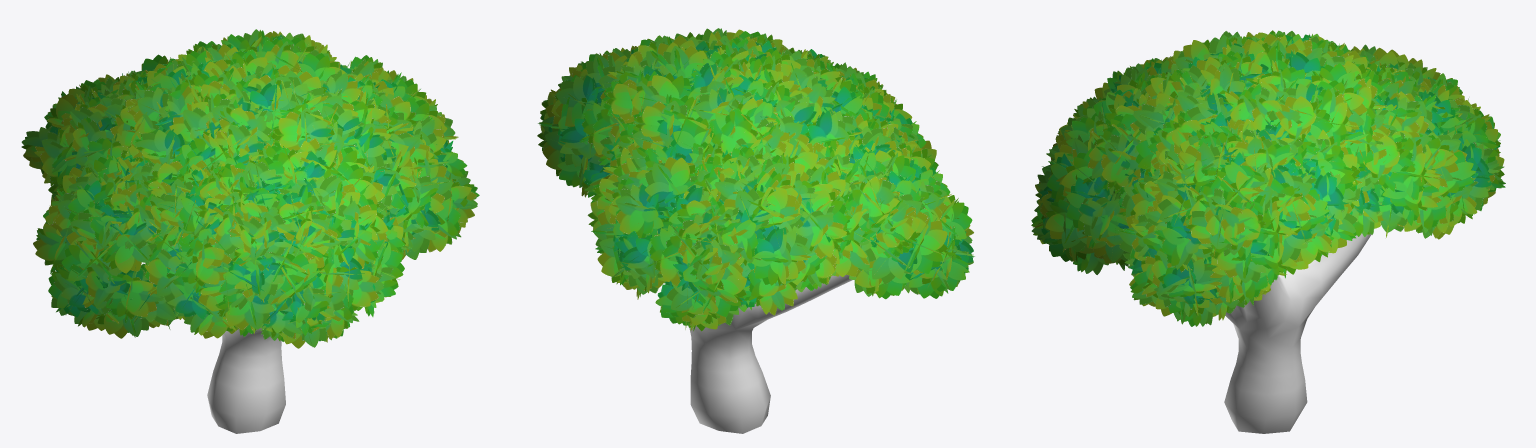
File: tree_it02.fbx
3 views of the same model, side by side, from view 1: azimuth 30°, elevation 25°; view 2: azimuth 150°, elevation 25°; view 3: azimuth 270°, elevation 25° (orthographic). The views are drawn at different scales.
Parts seen in each view (by area): view 1: leaves, Trunk; view 2: leaves, Trunk; view 3: leaves, Trunk.
Part boxes in pixels (<box>): leaves: <box>21,29,479,348</box>; Trunk: <box>207,328,285,433</box>; leaves: <box>537,28,974,331</box>; Trunk: <box>689,275,852,433</box>; leaves: <box>1031,30,1505,326</box>; Trunk: <box>1224,180,1378,433</box>.
Bounding box in the file's own units: 1585 × 1314 × 1533.
